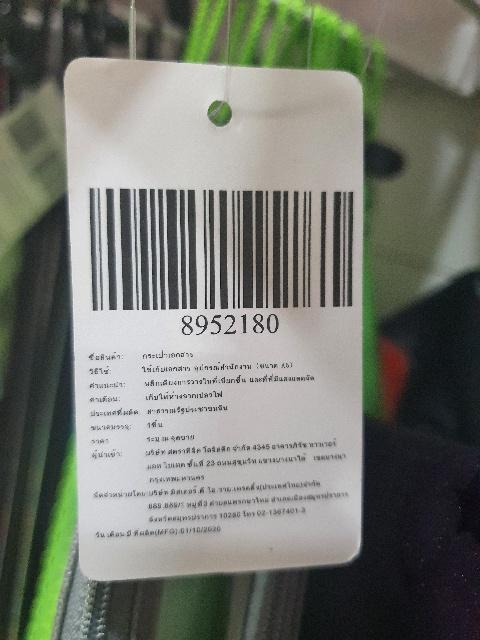Barcode: (75, 176, 361, 341)
